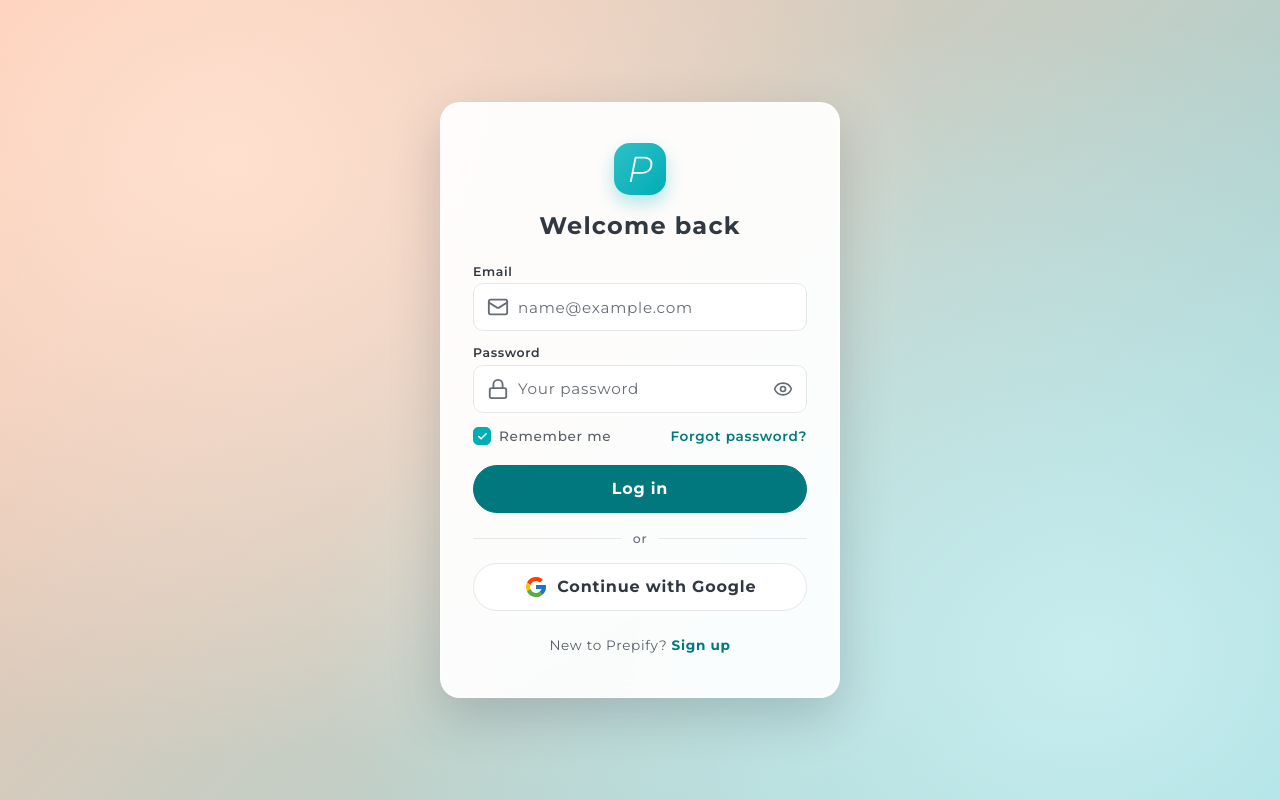
Test case: Login › renders the friendly error the auth layer reports
The image size is (1280, 800).
In the field labelled "Email": point(640, 307) [473, 283, 807, 331], type "a@b.com"
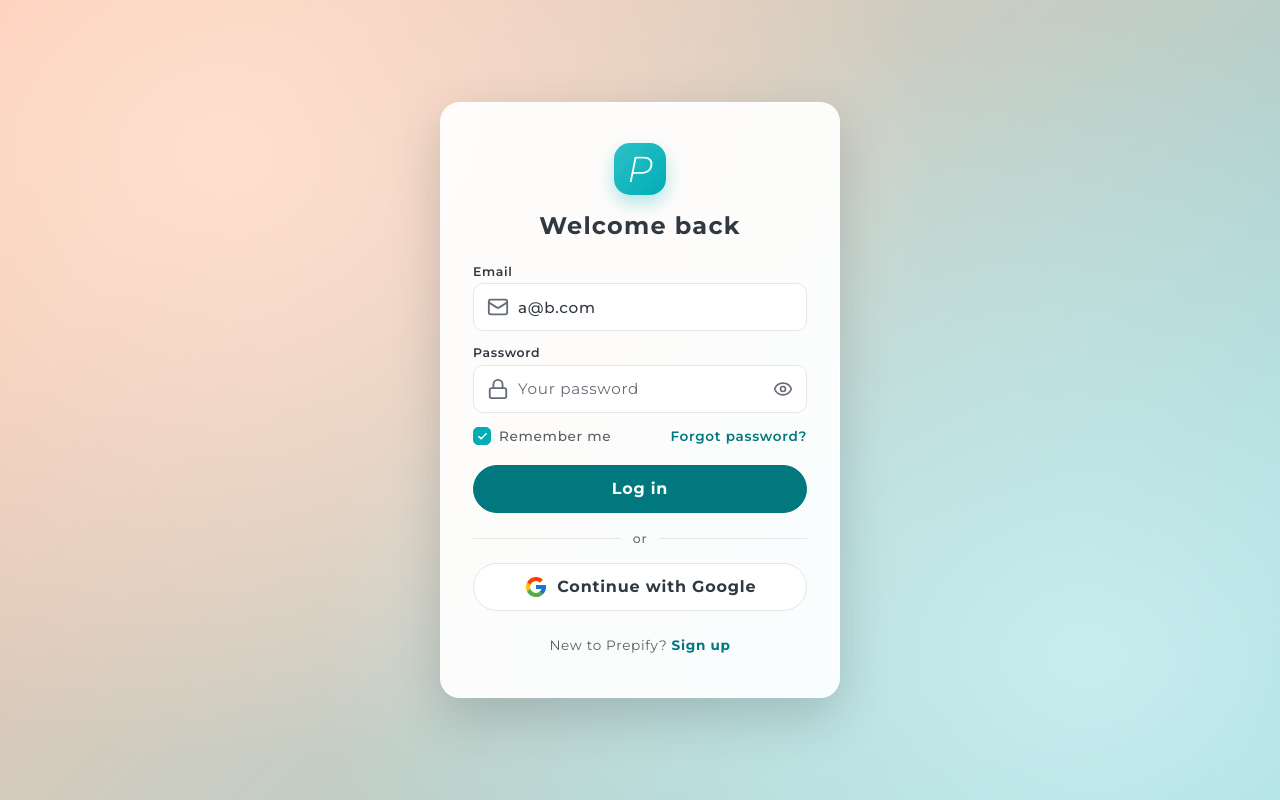
In the password field labelled "Password": point(640, 389) [473, 365, 807, 413], type "pw123456"
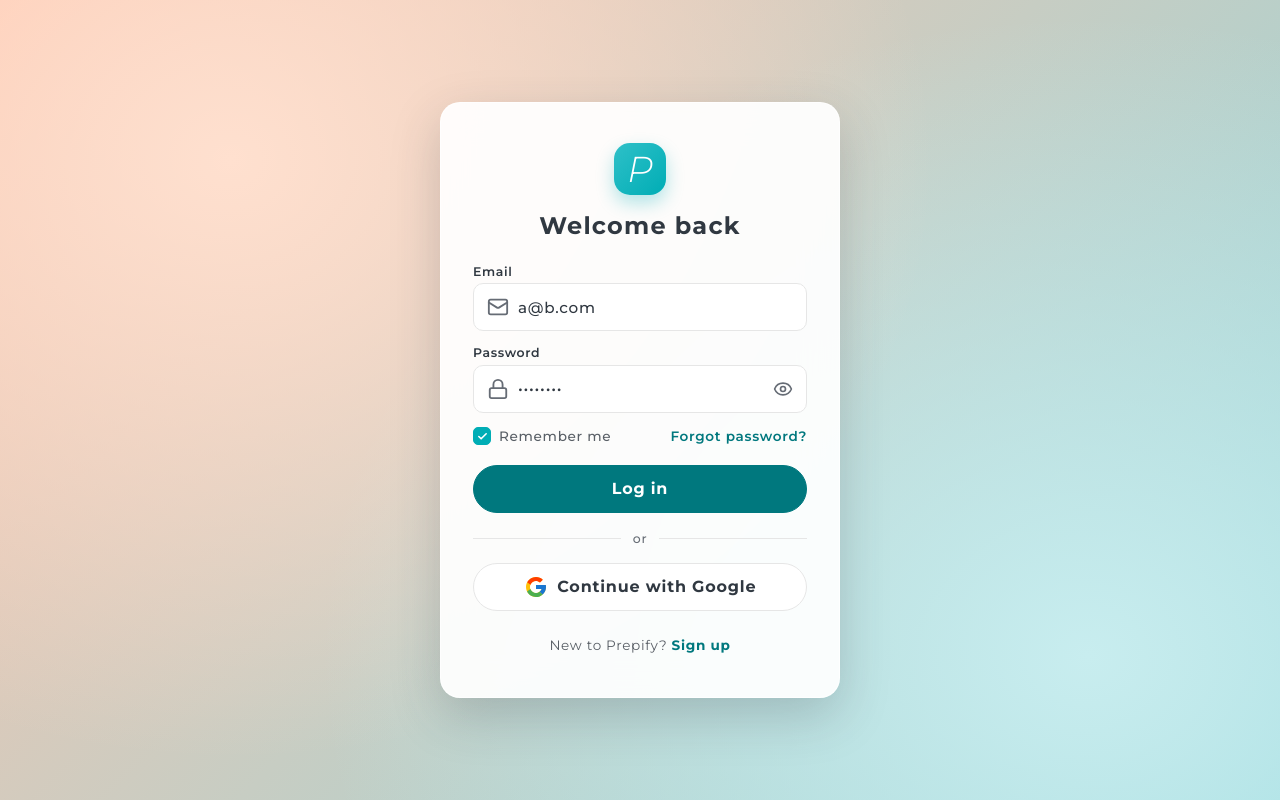
Click the button "Log in": point(640, 489) [473, 465, 807, 513]
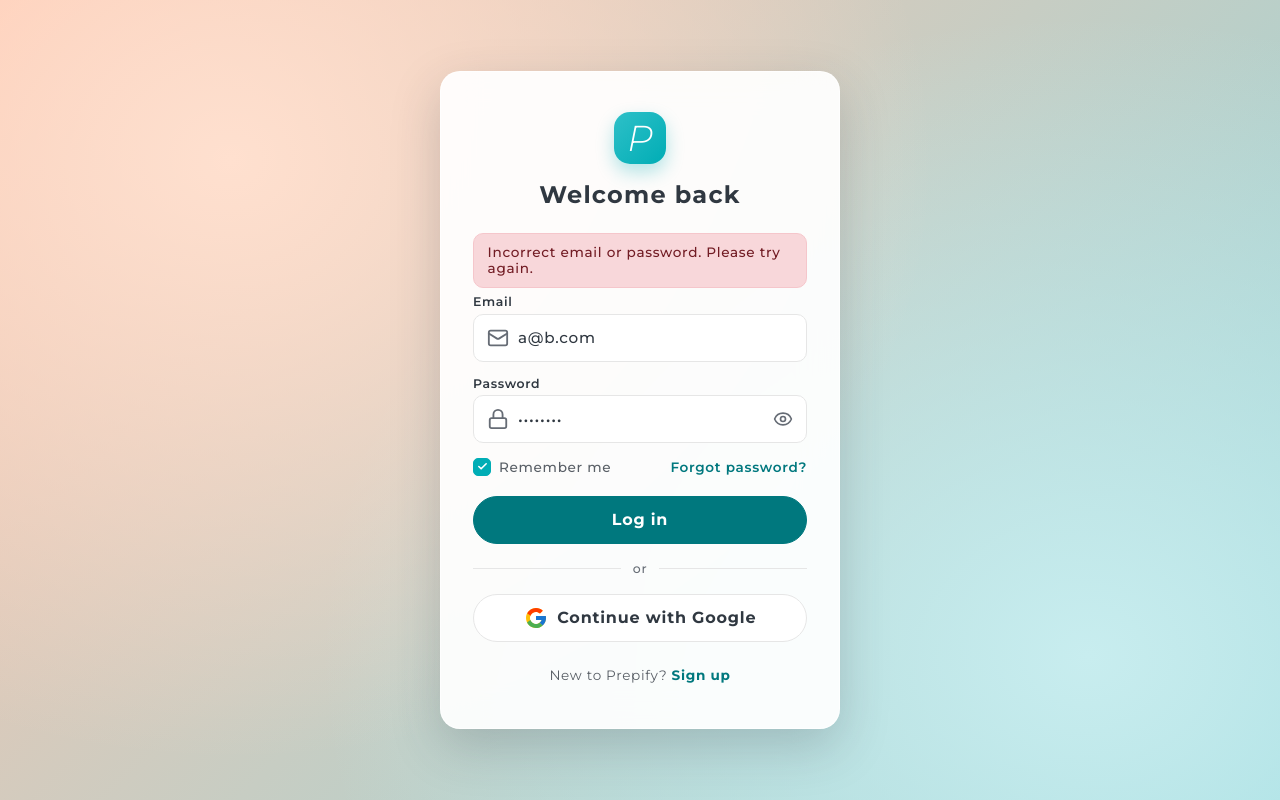
Expected: the text "Incorrect email or password. Please try again." is shown, [473, 233, 807, 288]
